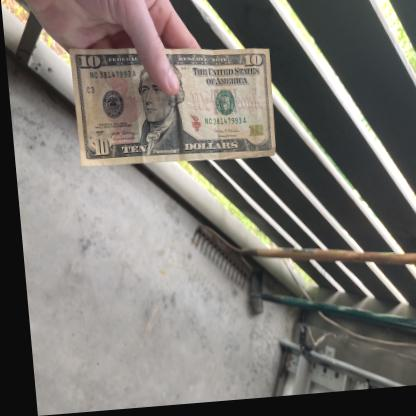ten-front: (63, 47, 283, 170)
